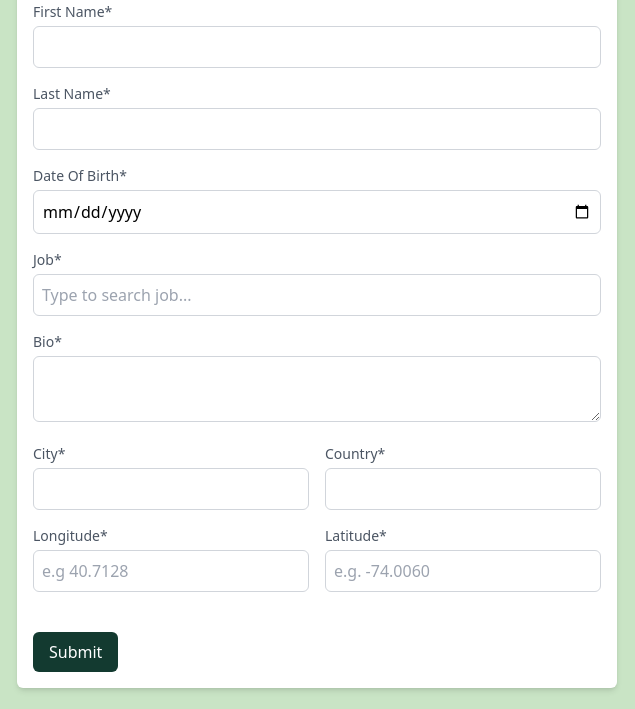
Test case: App component › shows an error message if form is submitted with empty fields
(page scrolled)
Submit the form without filling in any fields
Click the button "Submit" at (76, 652), box [33,632,118,672]
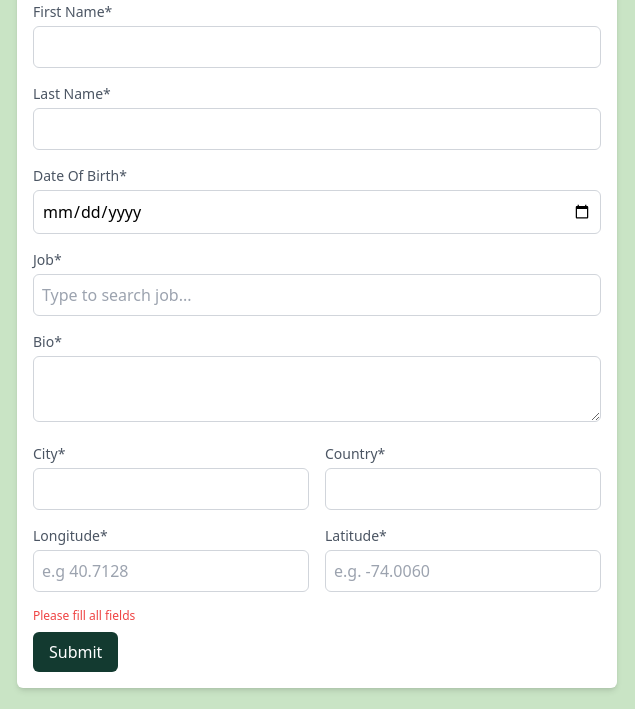
Check: the text "Please fill all fields" is shown, box [33,607,135,624]
